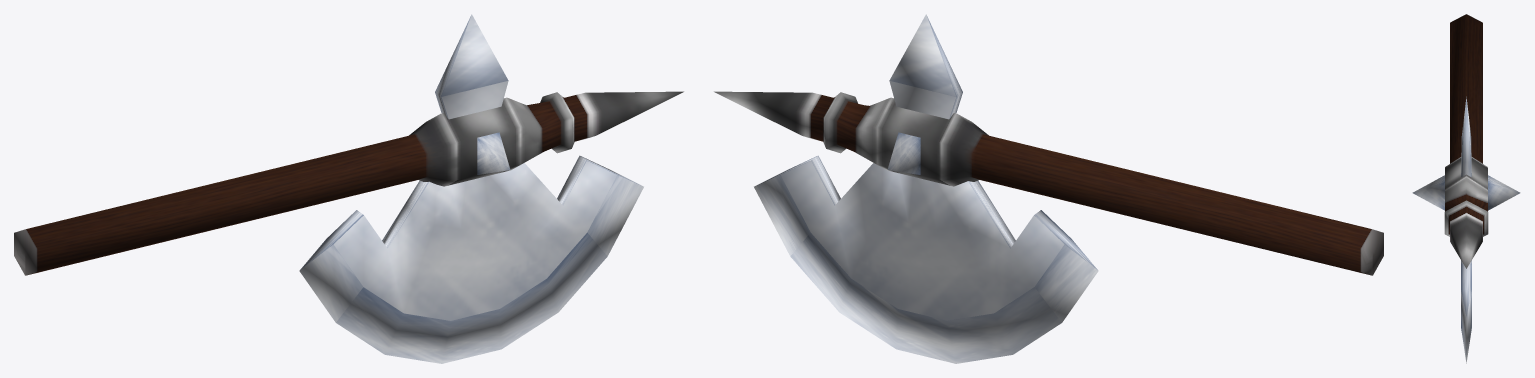
3 renders of one model, left to right at view 1: azimuth 30°, elevation 25°; view 2: azimuth 150°, elevation 25°; view 3: azimuth 270°, elevation 25°, orthographic. The views are drawn at different scales.
Parts seen in each view (by area): view 1: IT171_DMSPRITEDEF_node; view 2: IT171_DMSPRITEDEF_node; view 3: IT171_DMSPRITEDEF_node.
Part boxes in pixels (x1,y1,x2,y2): IT171_DMSPRITEDEF_node: (14, 14, 683, 363); IT171_DMSPRITEDEF_node: (714, 14, 1383, 363); IT171_DMSPRITEDEF_node: (1412, 14, 1520, 363).
Size of the model in its own units: 2.84 by 1.41 by 0.5483.
Materials: 2 (2 with a texture image).
